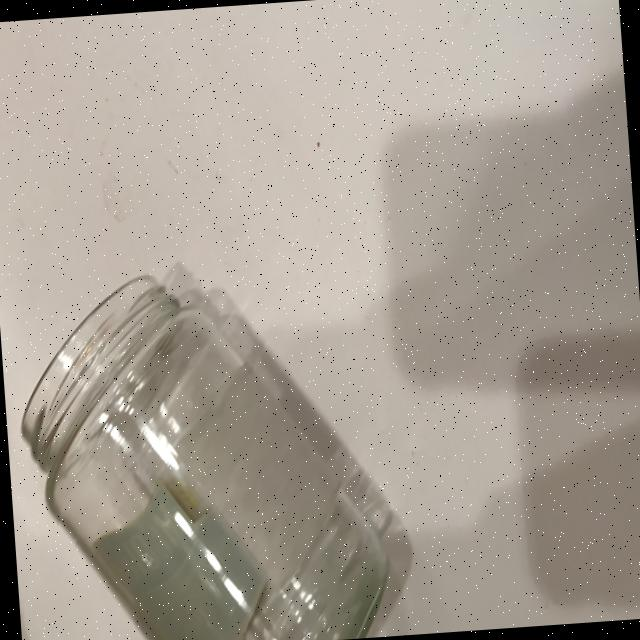glass: (9, 246, 412, 640)
